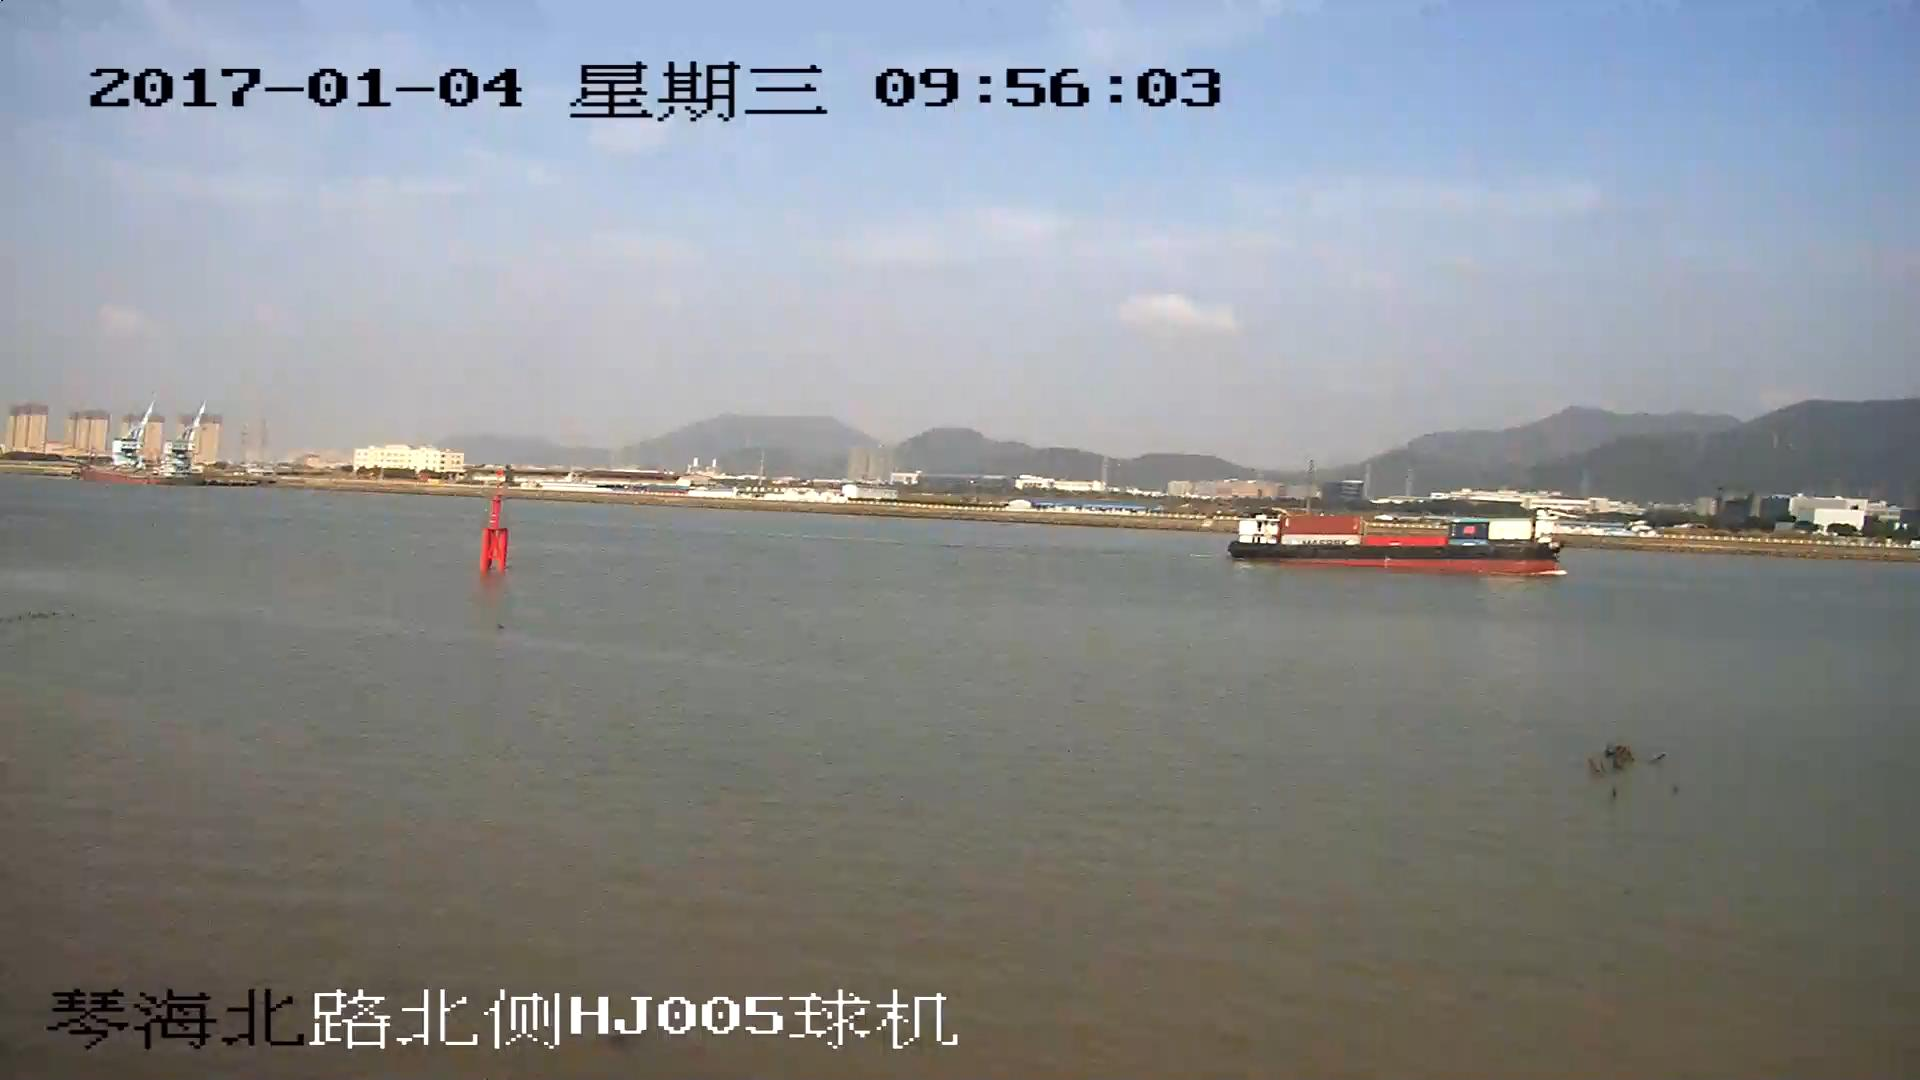container ship: (1233, 508, 1556, 573)
